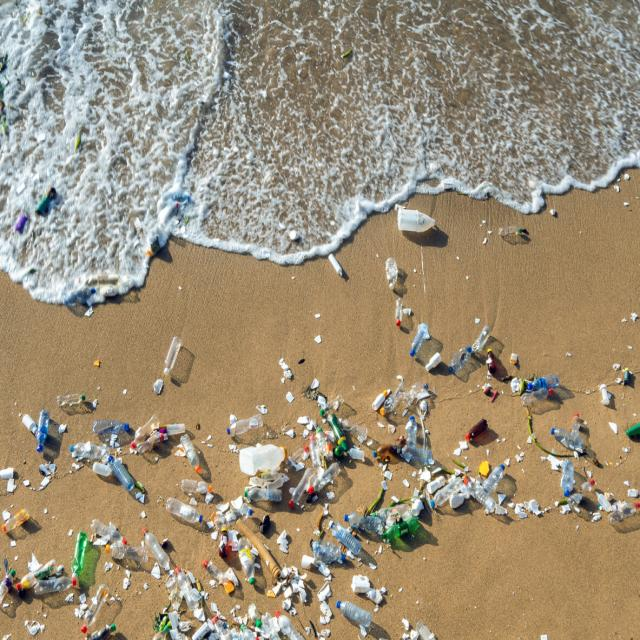Cup: (0, 319, 295, 640), (265, 296, 511, 640), (511, 285, 640, 640), (320, 188, 520, 298)
